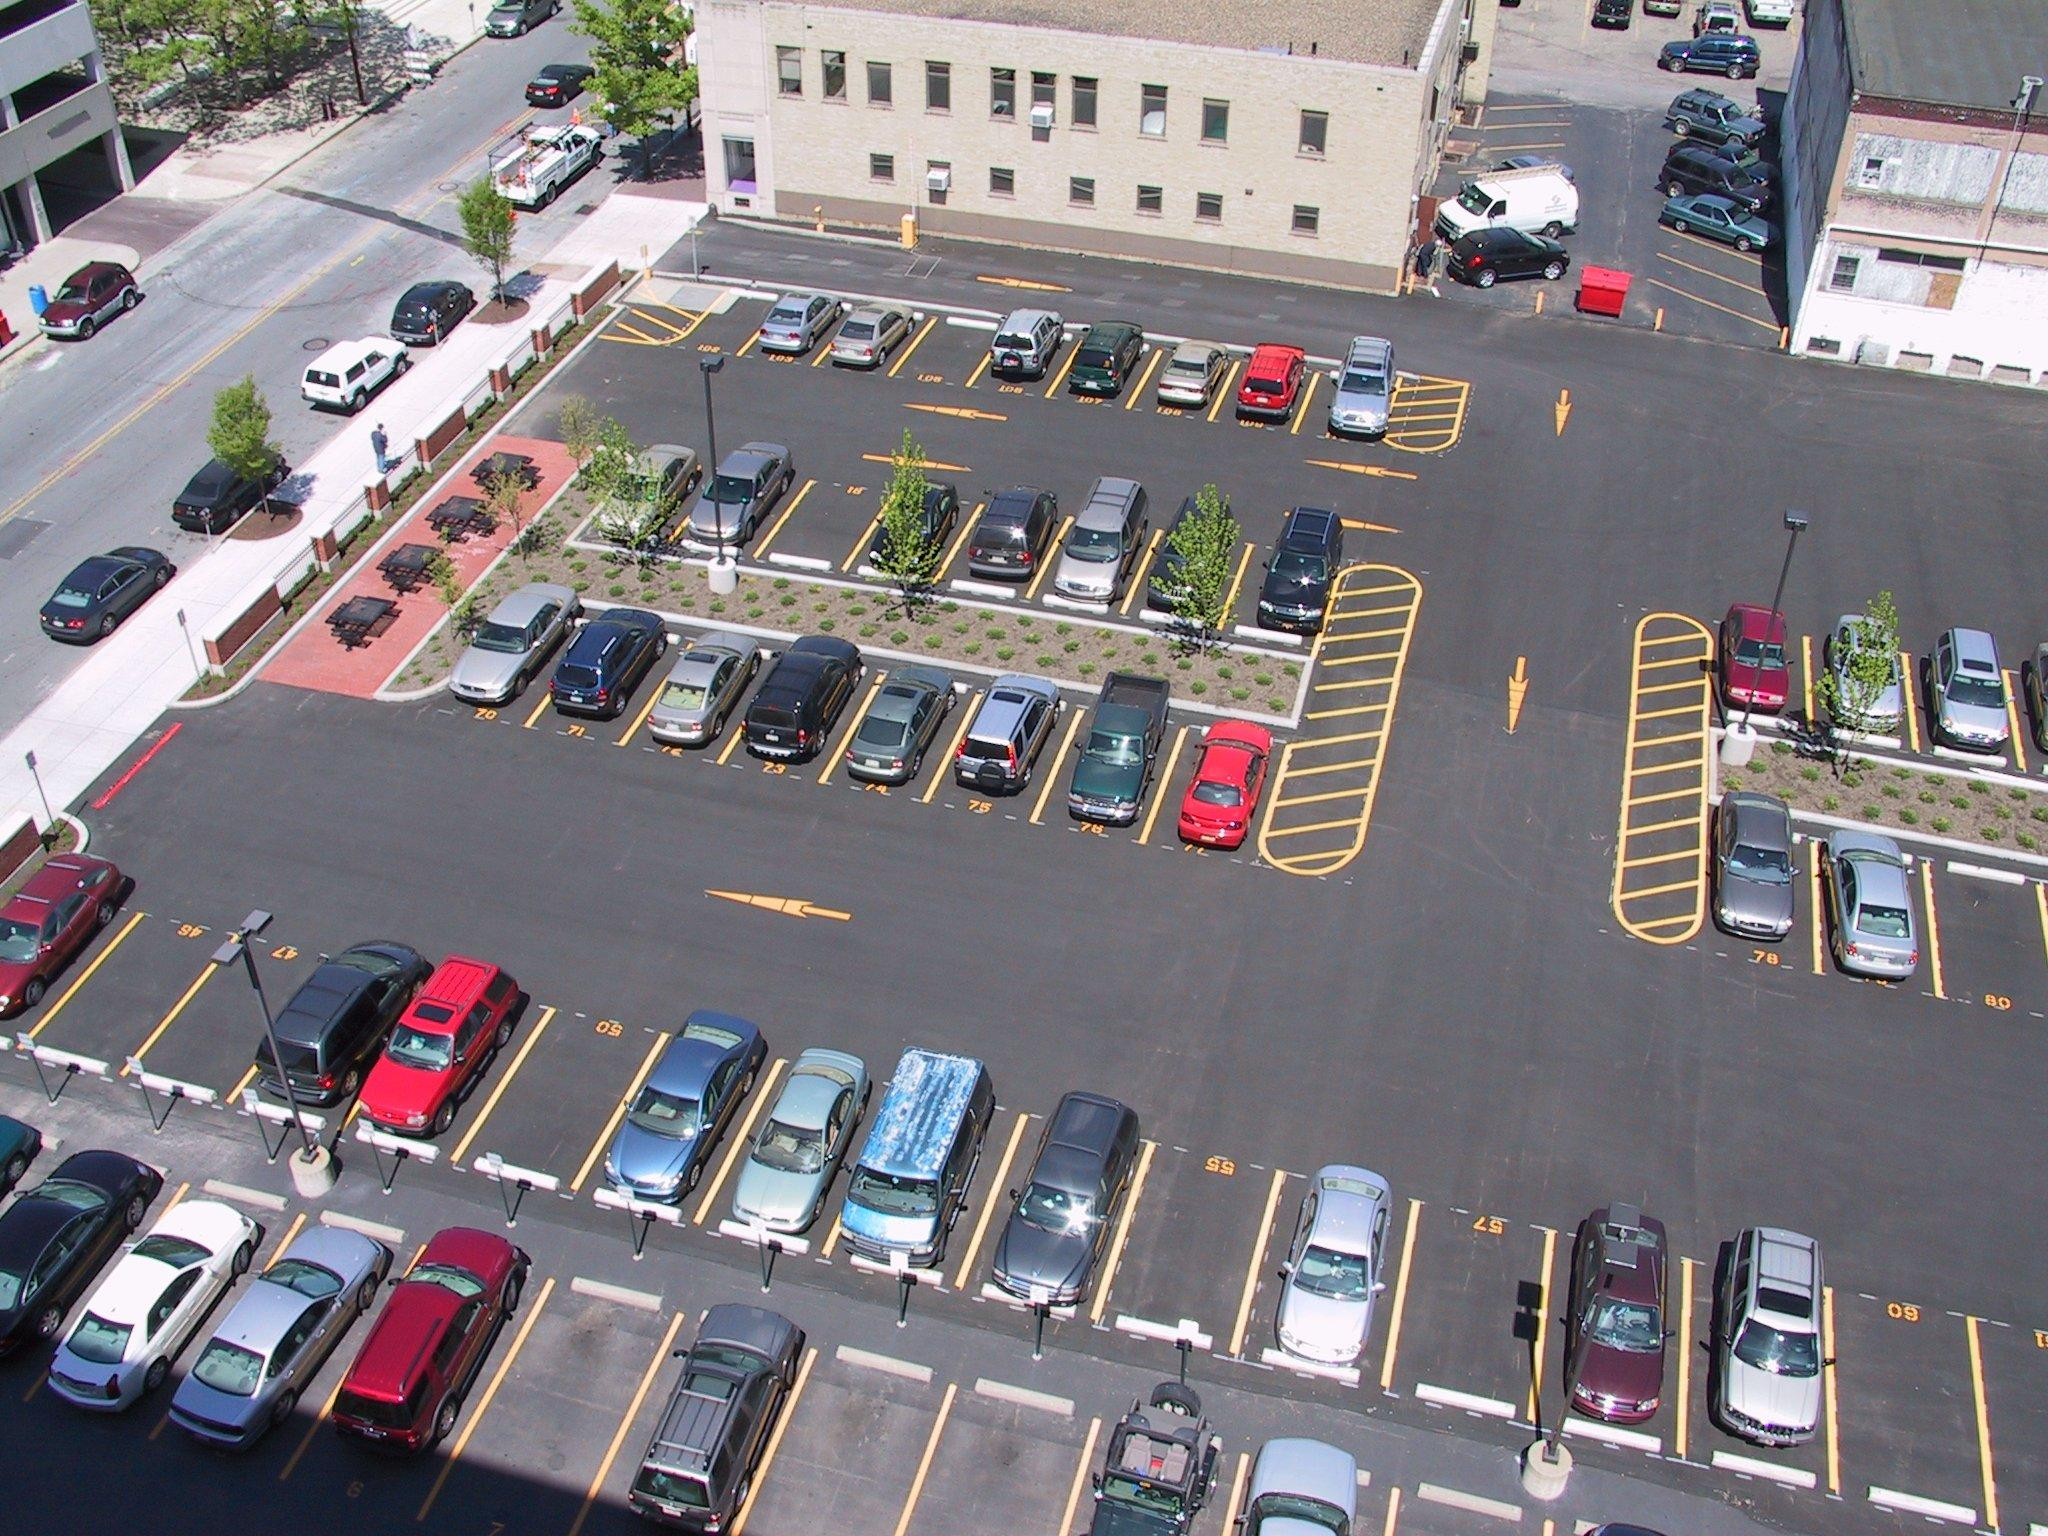empty: (65, 1194, 237, 1433), (184, 1225, 363, 1454), (345, 1236, 522, 1460), (631, 1305, 810, 1525), (1545, 1200, 1703, 1446), (993, 1086, 1151, 1329), (830, 1058, 992, 1279), (1696, 1225, 1845, 1460), (584, 1028, 755, 1213), (1255, 1168, 1403, 1381), (722, 1054, 869, 1255), (237, 934, 408, 1107), (345, 962, 516, 1133), (2, 1150, 119, 1375), (1089, 1384, 1224, 1525), (1817, 831, 1937, 987), (0, 862, 119, 1016), (1700, 808, 1816, 952), (1056, 691, 1172, 829), (729, 642, 856, 768), (1229, 1436, 1384, 1536), (450, 594, 572, 713), (942, 676, 1059, 795), (842, 666, 956, 786), (40, 547, 171, 649), (1809, 621, 1917, 744), (1048, 489, 1155, 611), (1917, 637, 2022, 762), (585, 444, 705, 552), (552, 610, 663, 724), (677, 447, 793, 557), (1172, 720, 1271, 849), (648, 634, 753, 750), (858, 486, 966, 581), (1713, 610, 1808, 718), (1251, 511, 1338, 629), (164, 457, 285, 541), (1140, 507, 1235, 613), (959, 495, 1055, 591), (289, 340, 403, 416), (42, 258, 147, 340), (503, 144, 598, 211), (1321, 361, 1397, 442), (830, 302, 913, 374), (979, 316, 1066, 384), (1147, 344, 1229, 415), (1064, 332, 1145, 403), (1229, 355, 1313, 423), (389, 279, 474, 345), (753, 294, 837, 358), (1563, 266, 1632, 316), (355, 71, 414, 123), (482, 3, 555, 45), (526, 63, 587, 110), (403, 34, 463, 79)
occupied: (1397, 1254, 1530, 1379), (1838, 1344, 1967, 1473), (1134, 1194, 1248, 1307), (498, 1346, 619, 1452), (769, 1431, 901, 1526), (927, 1460, 1061, 1534), (1942, 895, 2043, 989), (516, 1058, 608, 1131), (103, 955, 179, 1015), (801, 500, 874, 553), (144, 239, 202, 292), (927, 331, 987, 373)
